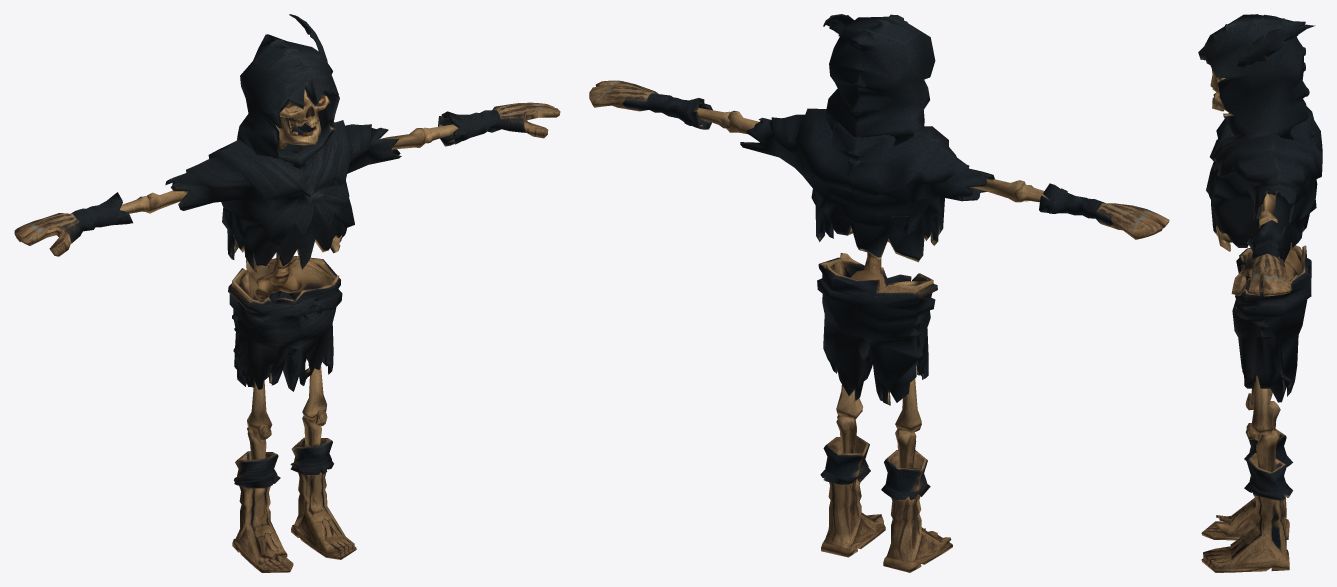
The model's file is SyntyMW_Hooded.fbx.
3 views of the same model, side by side, from view 1: azimuth 30°, elevation 25°; view 2: azimuth 150°, elevation 25°; view 3: azimuth 270°, elevation 25° (orthographic). The views are drawn at different scales.
Parts seen in each view (by area): view 1: Mesh_0; view 2: Mesh_0; view 3: Mesh_0.
Part boxes in pixels (<box>): Mesh_0: <box>14,14,560,572</box>; Mesh_0: <box>589,14,1169,572</box>; Mesh_0: <box>1198,14,1322,572</box>.
Size of the model in its own units: 200 by 181 by 37.86.
1 material, 1 textured.
